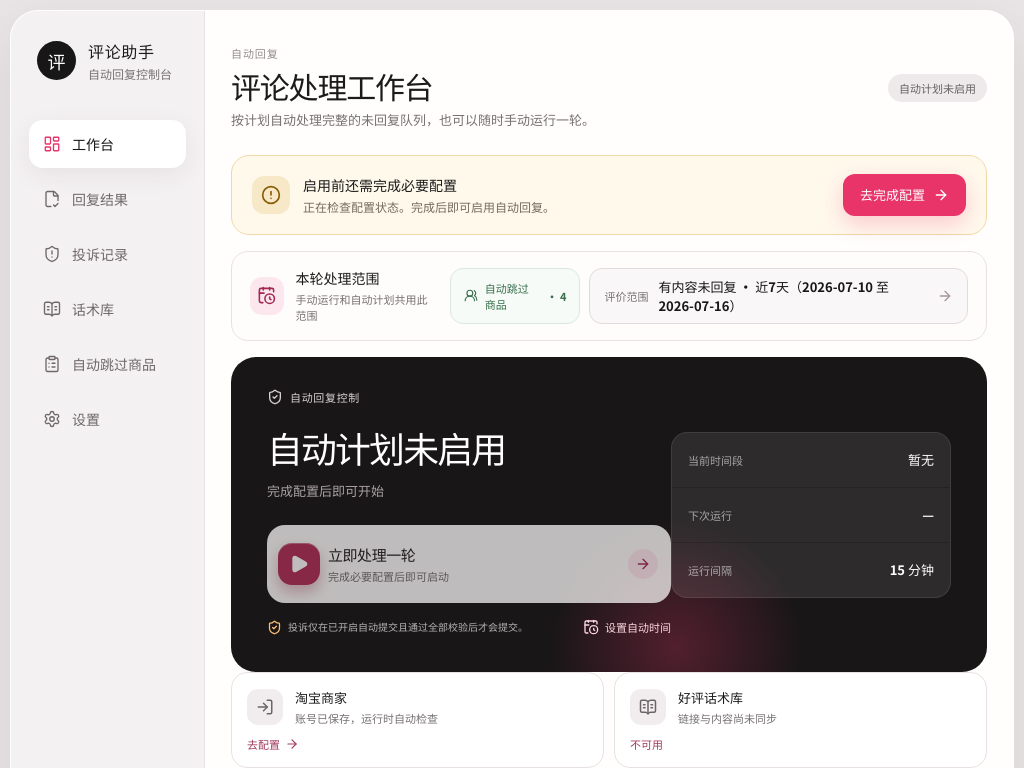
merchant console › refreshes the workbench total immediately after a manual product is added
The width and height of the screenshot is (1024, 768).
Click the link "自动跳过商品 · 4" at (515, 296), box [450,268,580,324]
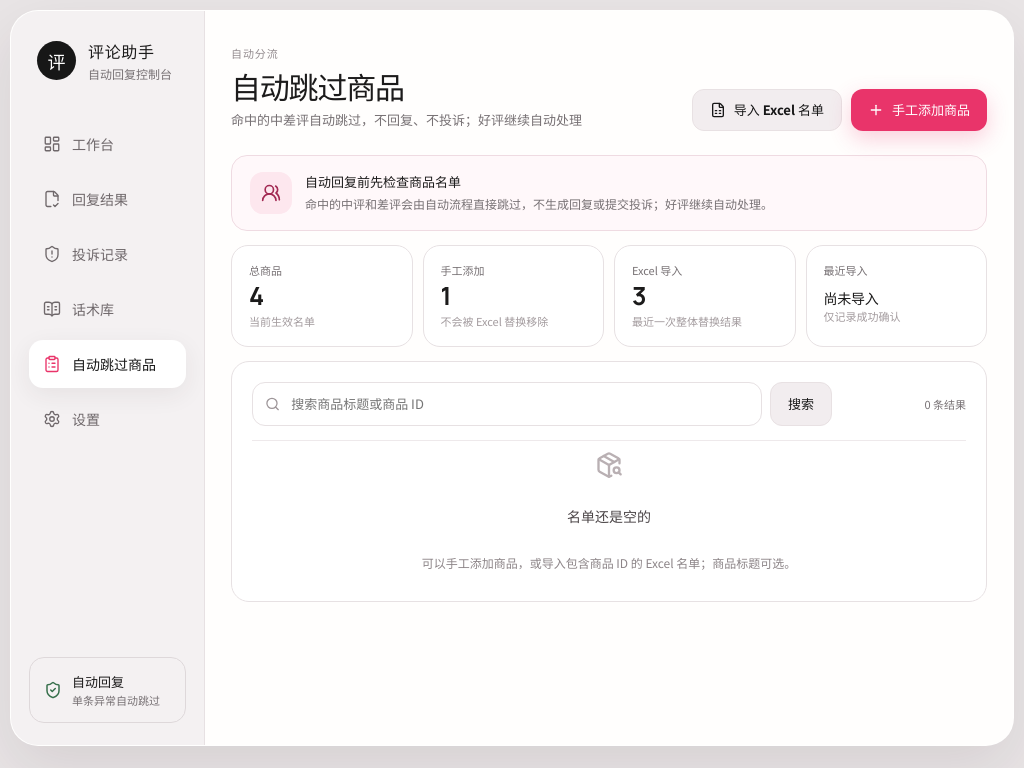
Click the button "手工添加商品" at (919, 110), box [851,89,987,131]
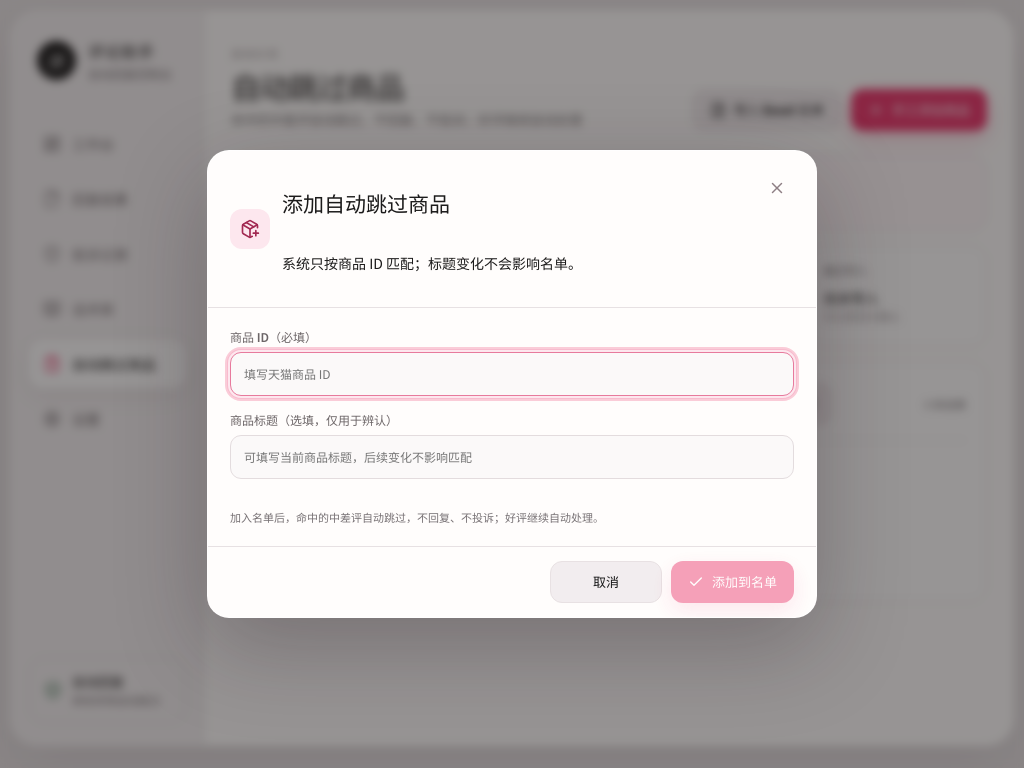
Type "900000000000100" into the field labelled "商品 ID（必填）" at (512, 374), box [230,352,794,396]
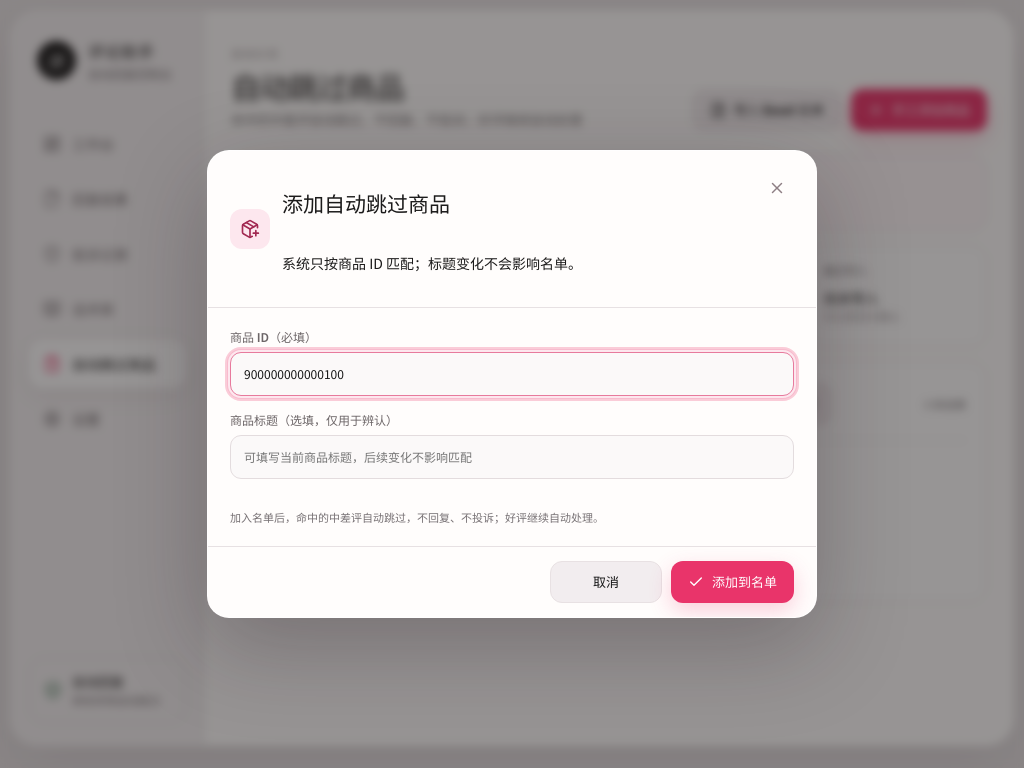
Type "新增后刷新工作台的商品" into the field labelled "商品标题（选填，仅用于辨认）" at (512, 457), box [230,435,794,479]
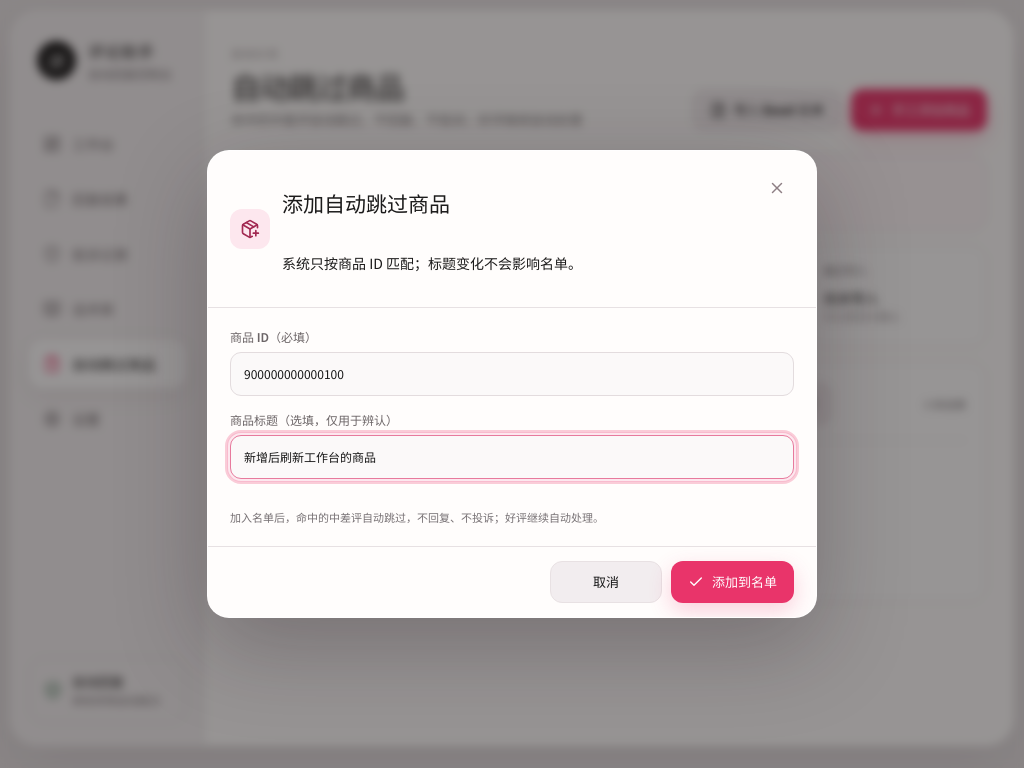
Click the button "添加到名单" at (732, 582), box [671,561,794,603]
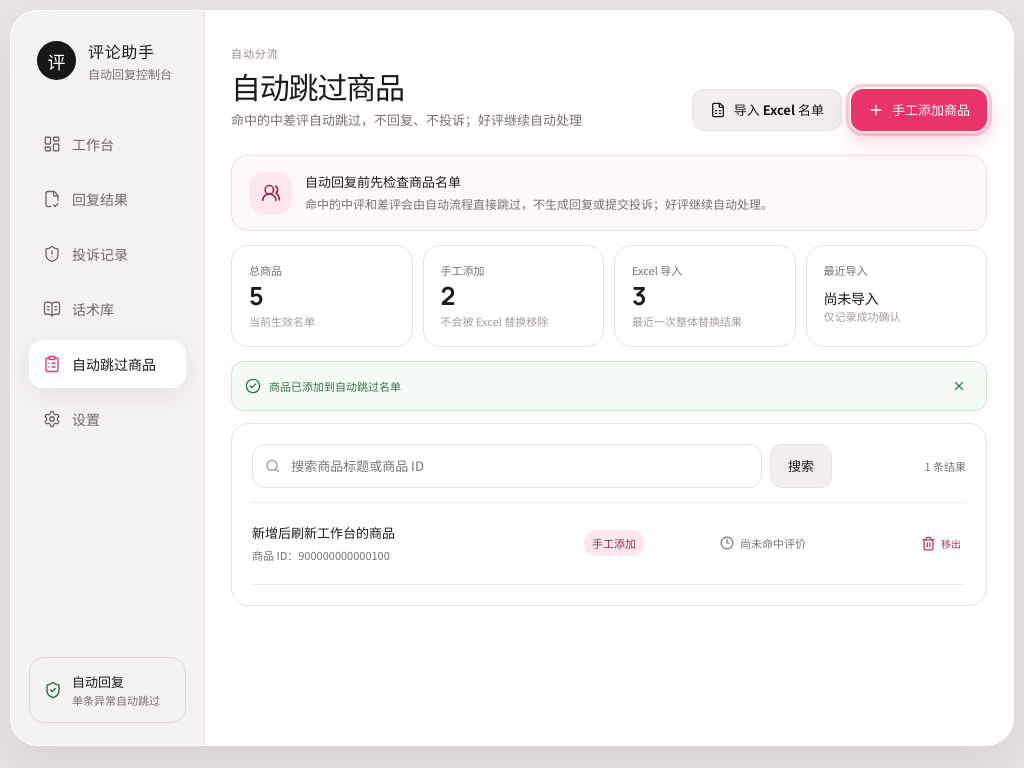
Check: the text "商品已添加到自动跳过名单" is shown, box [269,378,401,394]
Click the link "工作台" at (78, 144), box [43,134,114,154]
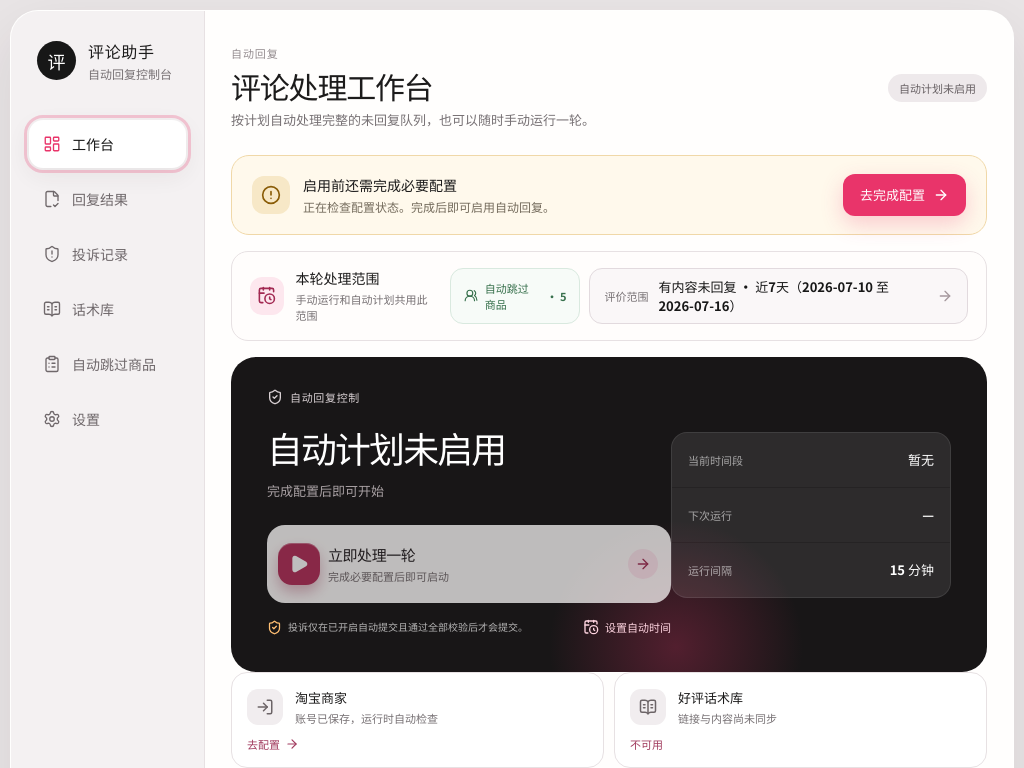
Check: the link "自动跳过商品 · 5" is shown, box [450,268,580,324]
